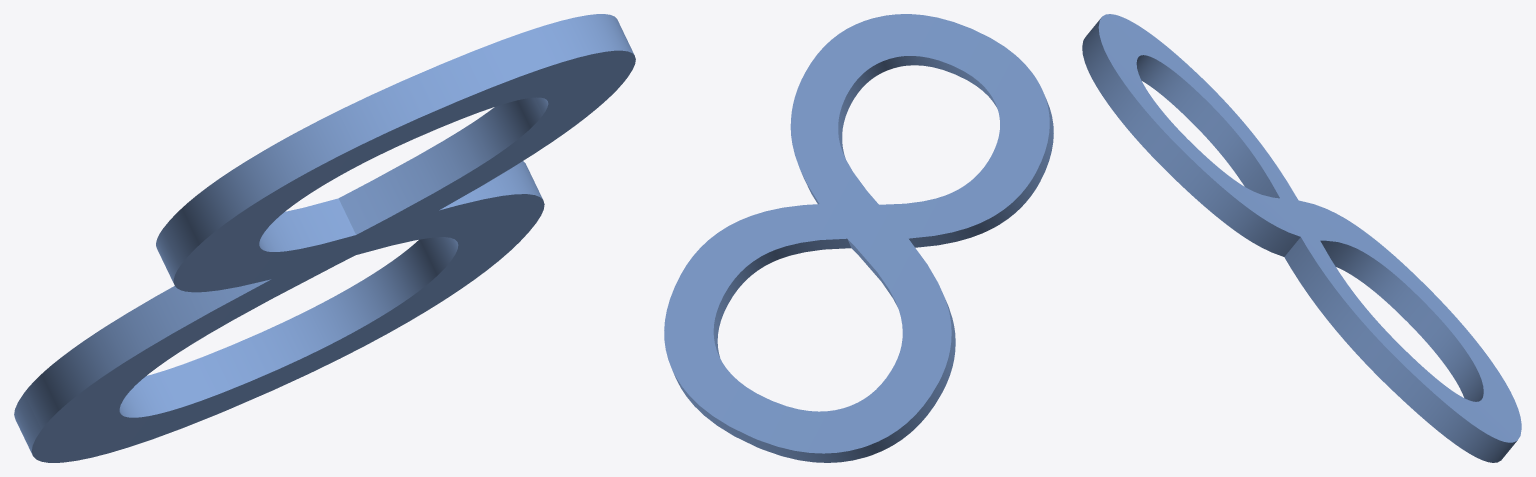
File: New_Number_8.gltf
The picture shows the model from 3 angles, left to right: view 1: azimuth 30°, elevation 25°; view 2: azimuth 150°, elevation 25°; view 3: azimuth 270°, elevation 25°; orthographic projection. The views are drawn at different scales.
Visible parts, largest first — view 1: Part 368; view 2: Part 368; view 3: Part 368.
Boxes of the visible parts, x1,y1,x2,y2 form: Part 368: (14, 14, 635, 462); Part 368: (664, 14, 1053, 462); Part 368: (1082, 14, 1521, 462).
Bounding box in the file's own units: 0.0038 × 0.00423 × 0.00422.
